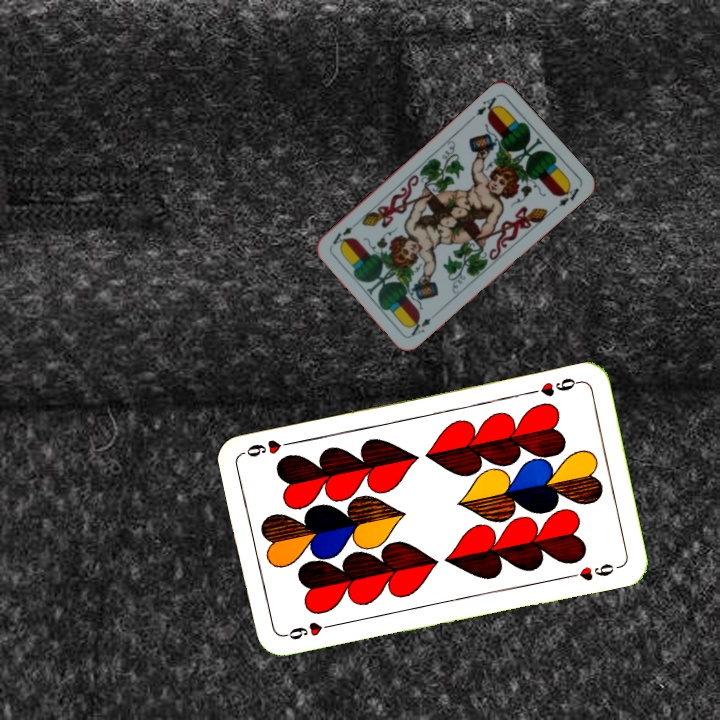EA: (472, 92, 502, 119), (407, 314, 434, 339)
H9: (525, 374, 583, 399), (280, 618, 338, 642)
